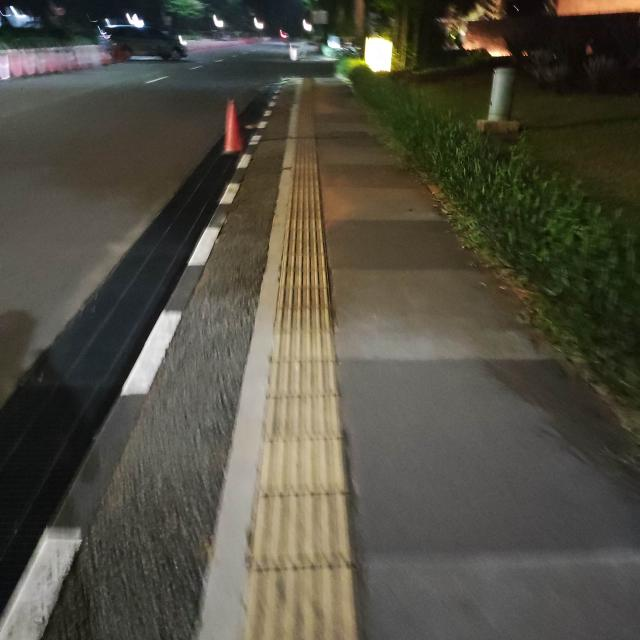lurus: (266, 148, 366, 640)
